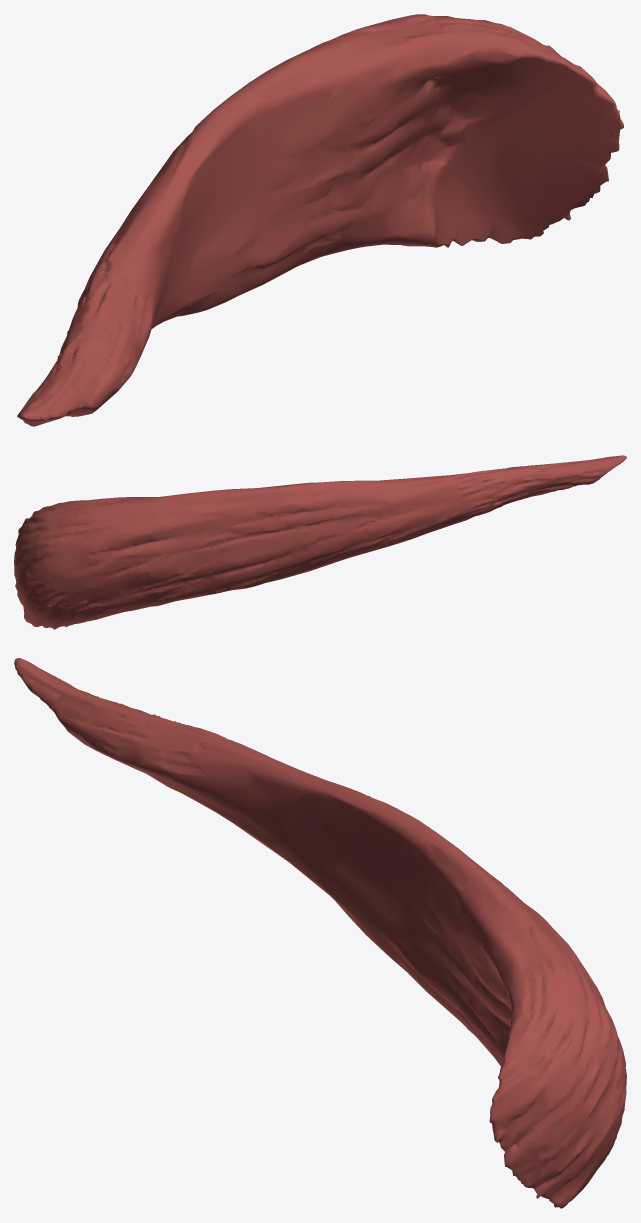
The model's file is FMA22336.glb.
The picture shows the model from 3 angles, top to bottom: view 1: azimuth 30°, elevation 25°; view 2: azimuth 150°, elevation 25°; view 3: azimuth 270°, elevation 25°; orthographic projection. The views are drawn at different scales.
Visible parts, largest first — view 1: FMA22336; view 2: FMA22336; view 3: FMA22336.
Boxes of the visible parts, x1,y1,x2,y2 form: FMA22336: (17,14,623,426); FMA22336: (14,455,626,629); FMA22336: (14,658,626,1208).
Bounding box in the file's own units: 0.0704 × 0.0225 × 0.0527.
